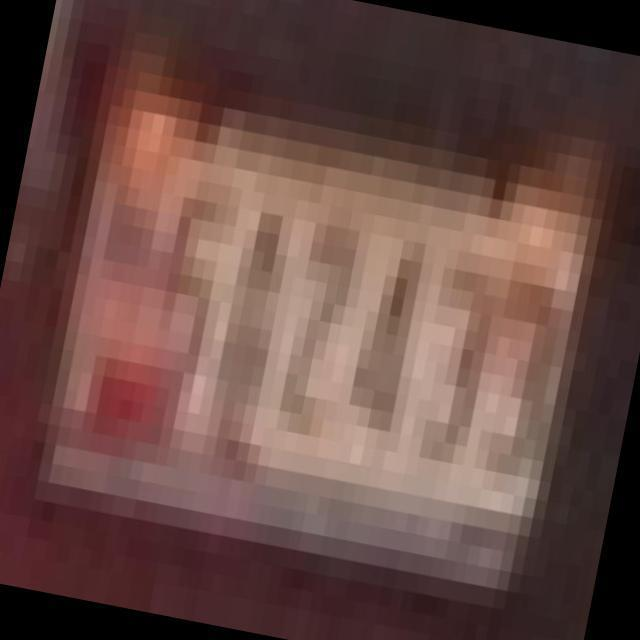License Plate: (9, 38, 618, 610)
